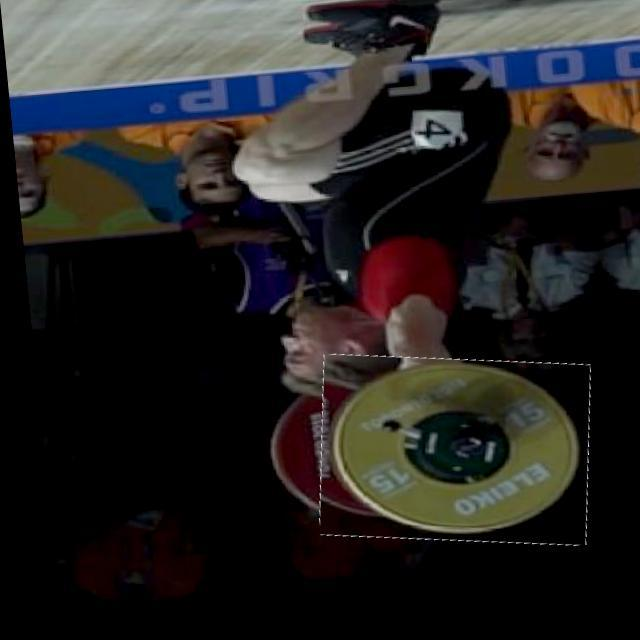barbell: (302, 351, 591, 564)
